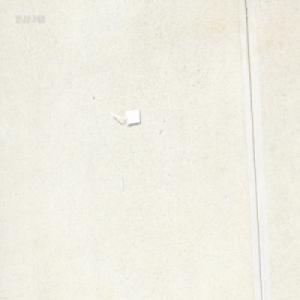LuggageTag: (110, 108, 141, 126)
